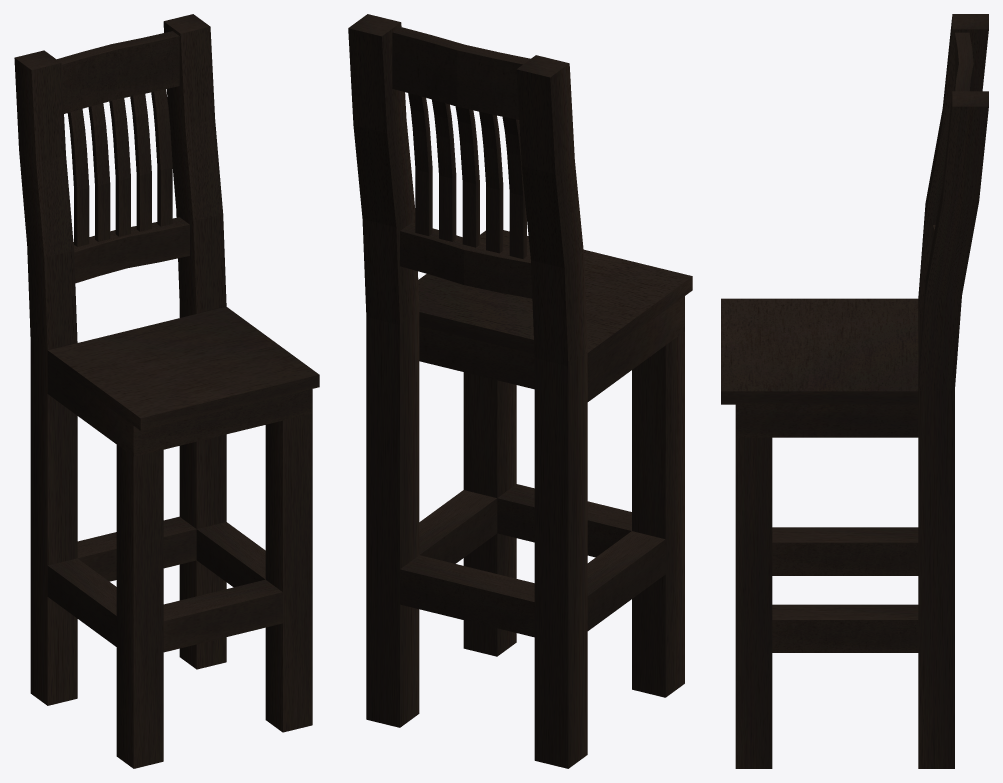
The model's file is Chair.dae.
The picture shows the model from 3 angles, left to right: view 1: azimuth 30°, elevation 25°; view 2: azimuth 150°, elevation 25°; view 3: azimuth 270°, elevation 25°; orthographic projection. The views are drawn at different scales.
Visible parts, largest first — view 1: Seat.001; view 2: Seat.001; view 3: Seat.001.
Part boxes in pixels (x1,y1,x2,y2): Seat.001: (14, 14, 319, 768); Seat.001: (348, 14, 692, 768); Seat.001: (721, 14, 988, 768).
Size of the model in its own units: 0.6 by 0.7333 by 2.
Materials: 1 (1 with a texture image).
